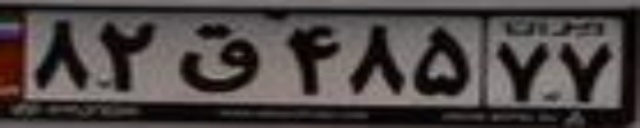2: (98, 19, 155, 92)
4: (282, 25, 337, 96)
5: (413, 27, 466, 96)
7: (556, 41, 614, 103), (494, 41, 550, 101)
8: (27, 18, 88, 90), (344, 25, 404, 94)
ghaf: (176, 23, 261, 93)
